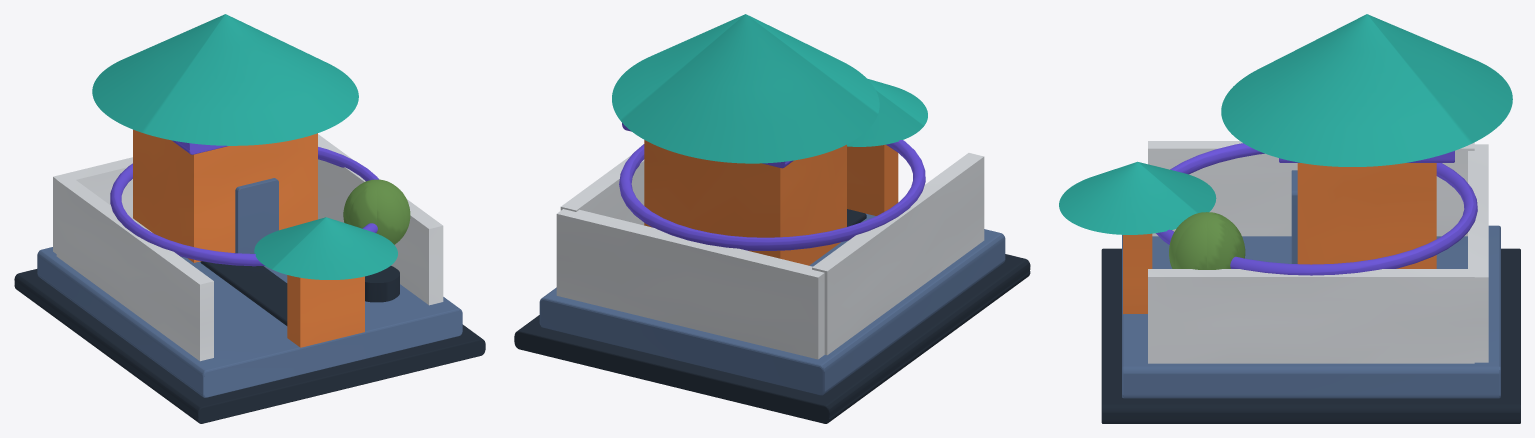
The model's file is 0806_中国建筑图鉴_杏坛.glb.
3 renders of one model, left to right at view 1: azimuth 30°, elevation 25°; view 2: azimuth 150°, elevation 25°; view 3: azimuth 270°, elevation 25°, orthographic. The views are drawn at different scales.
Parts seen in each view (by area): view 1: card_0806; view 2: card_0806; view 3: card_0806.
Boxes of the visible parts, x1,y1,x2,y2 form: card_0806: (14,14,485,423); card_0806: (514,14,1030,423); card_0806: (1059,14,1520,423).
Bounding box in the file's own units: 1.04 × 1 × 1.26.
